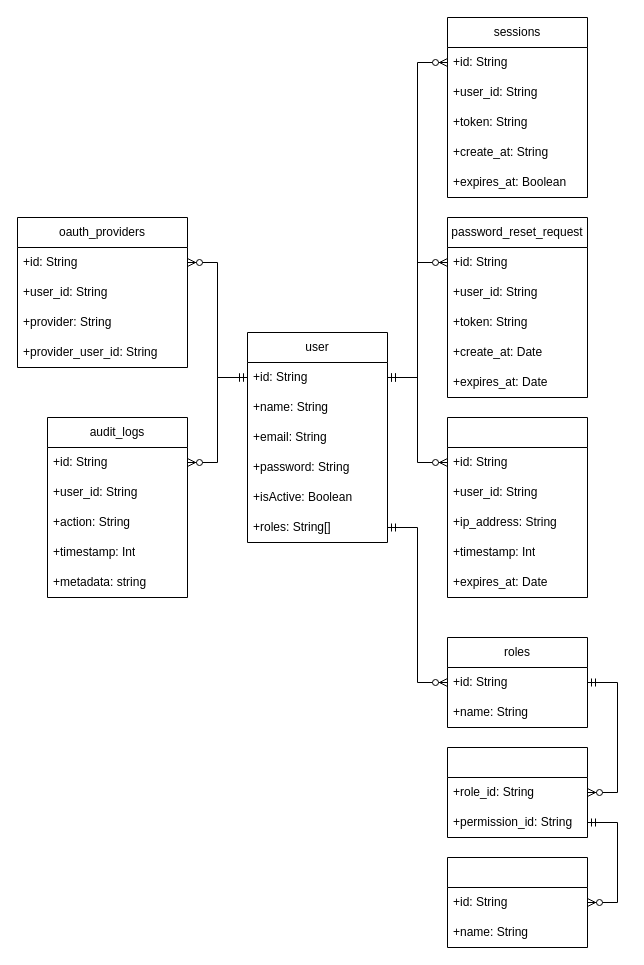
The diagram is 644 pixels wide and 965 high, and some of its shapes have lost their labels. Each missing label, with the box of its shape:
login_attempts: (446, 416, 588, 598)
permissions: (446, 856, 588, 948)
role_permission: (446, 746, 588, 838)
